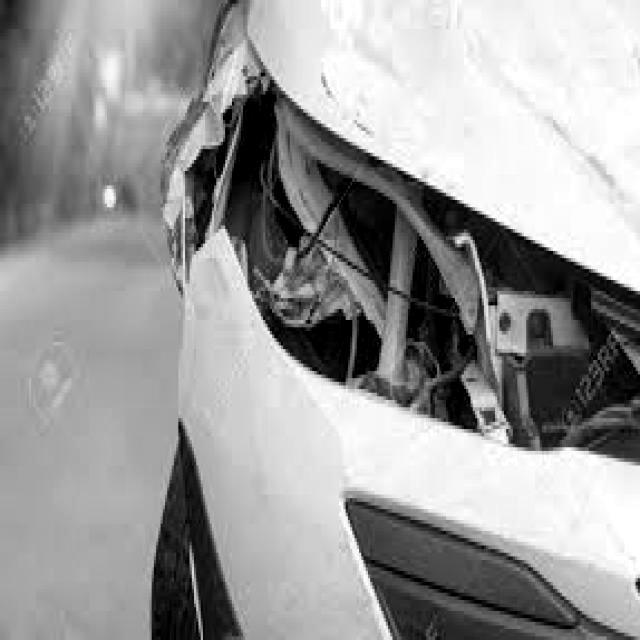Headlight-damage: (187, 29, 637, 491)
